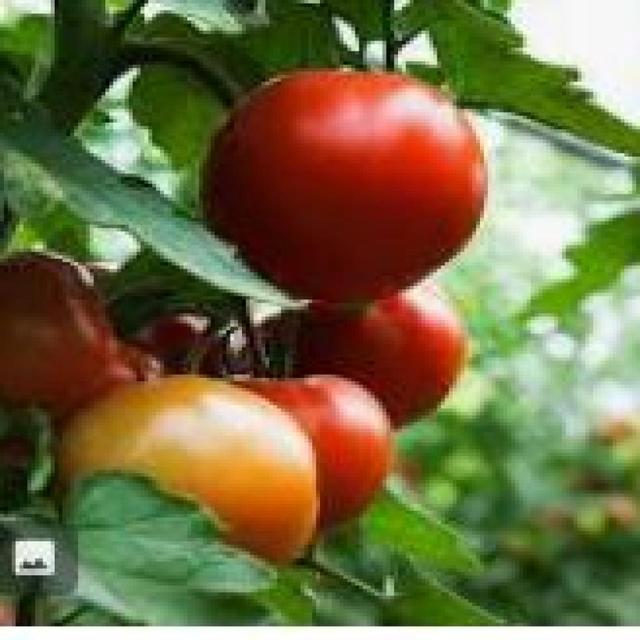Healthy Fruit: (48, 104, 266, 303)
